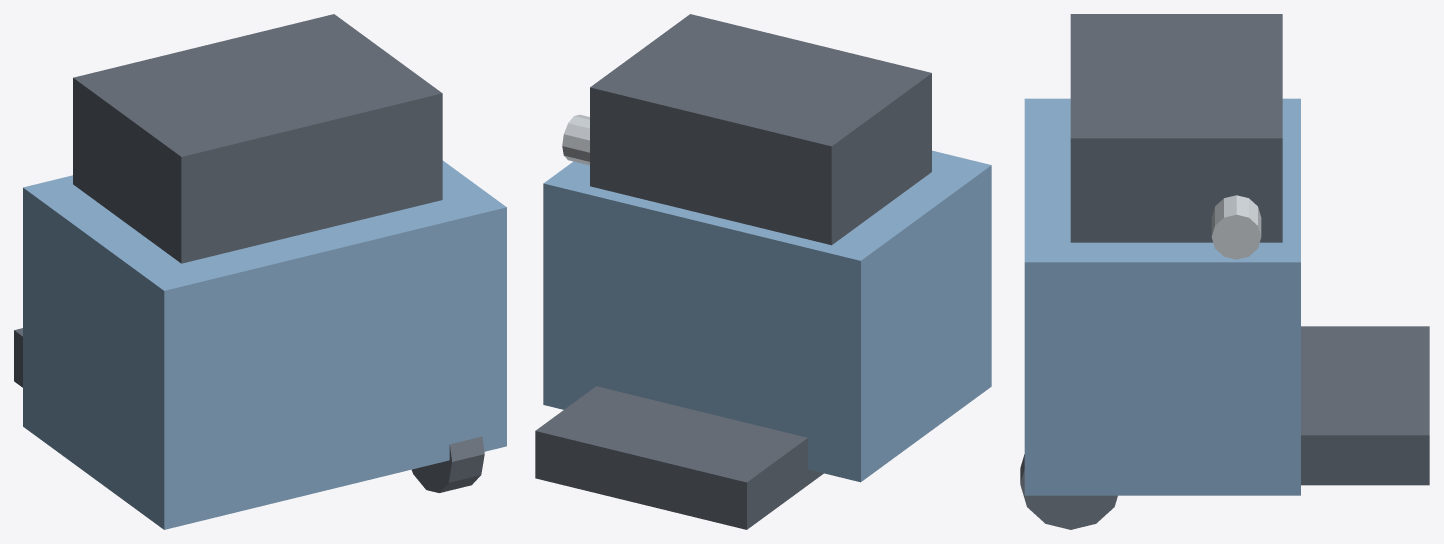
Rendered from trituradora_2.glb.
The picture shows the model from 3 angles, left to right: view 1: azimuth 30°, elevation 25°; view 2: azimuth 150°, elevation 25°; view 3: azimuth 270°, elevation 25°; orthographic projection. The views are drawn at different scales.
Visible parts, largest first — view 1: chasis, tolva, rueda; view 2: chasis, tolva, cinta, rodillo; view 3: chasis, tolva, cinta, rodillo, rueda.
Boxes of the visible parts, <box> form: chasis: <box>23,160,506,529</box>; tolva: <box>73,14,442,263</box>; rueda: <box>411,436,484,492</box>; chasis: <box>543,150,991,482</box>; tolva: <box>590,14,931,245</box>; cinta: <box>535,386,823,529</box>; rodillo: <box>562,114,589,165</box>; chasis: <box>1024,98,1300,495</box>; tolva: <box>1070,14,1282,242</box>; cinta: <box>1301,326,1429,485</box>; rodillo: <box>1211,195,1261,259</box>; rueda: <box>1020,454,1117,529</box>.
Size of the model in its own units: 0.8217 by 0.9 by 0.8707.
